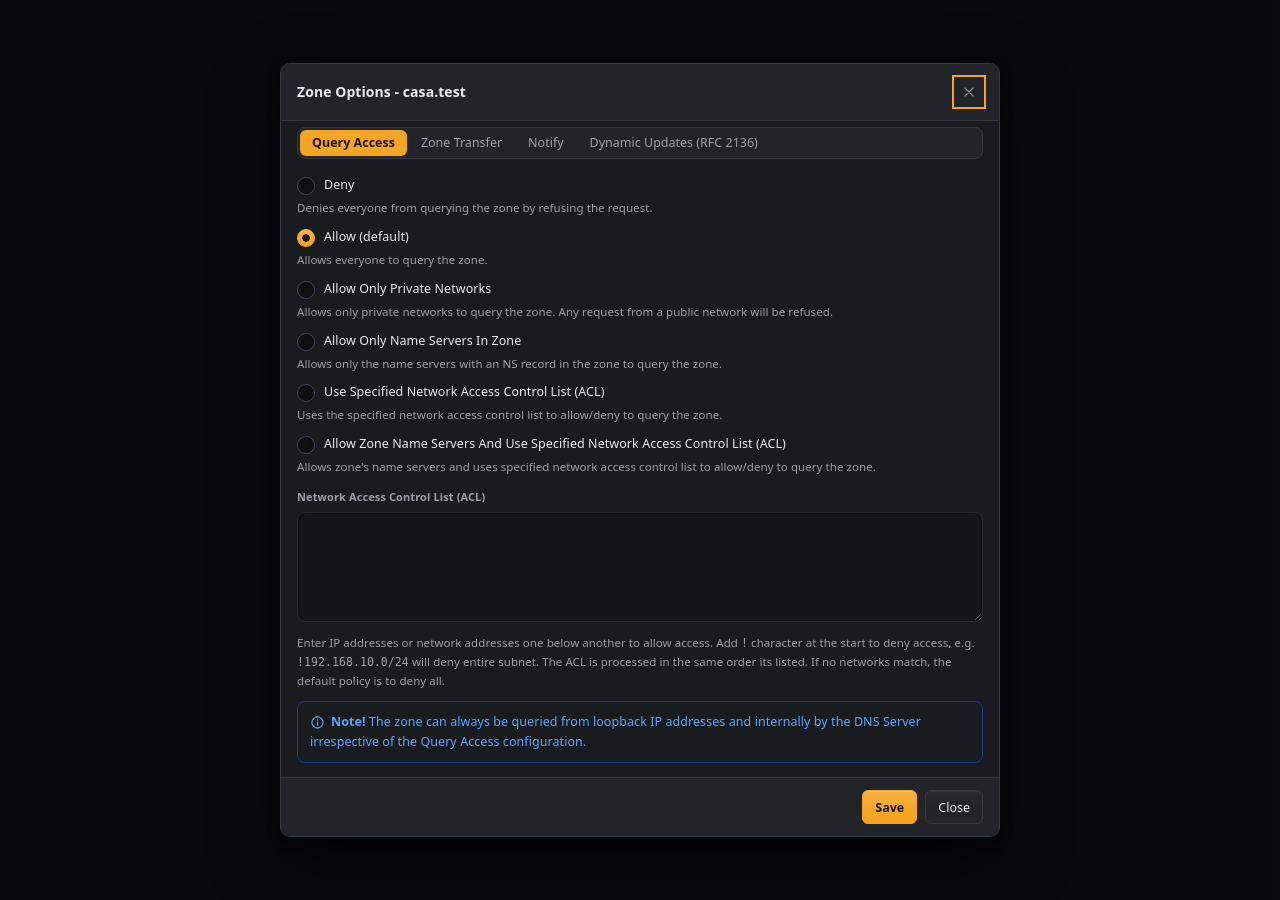
Scenario: Zone Options: the explanation under each radio › Dynamic Updates: five texts, the ACL help, Note, Warning and the security policy Note
Click the tab "Dynamic Updates (RFC 2136)": [674, 143] box [578,130,770,156]
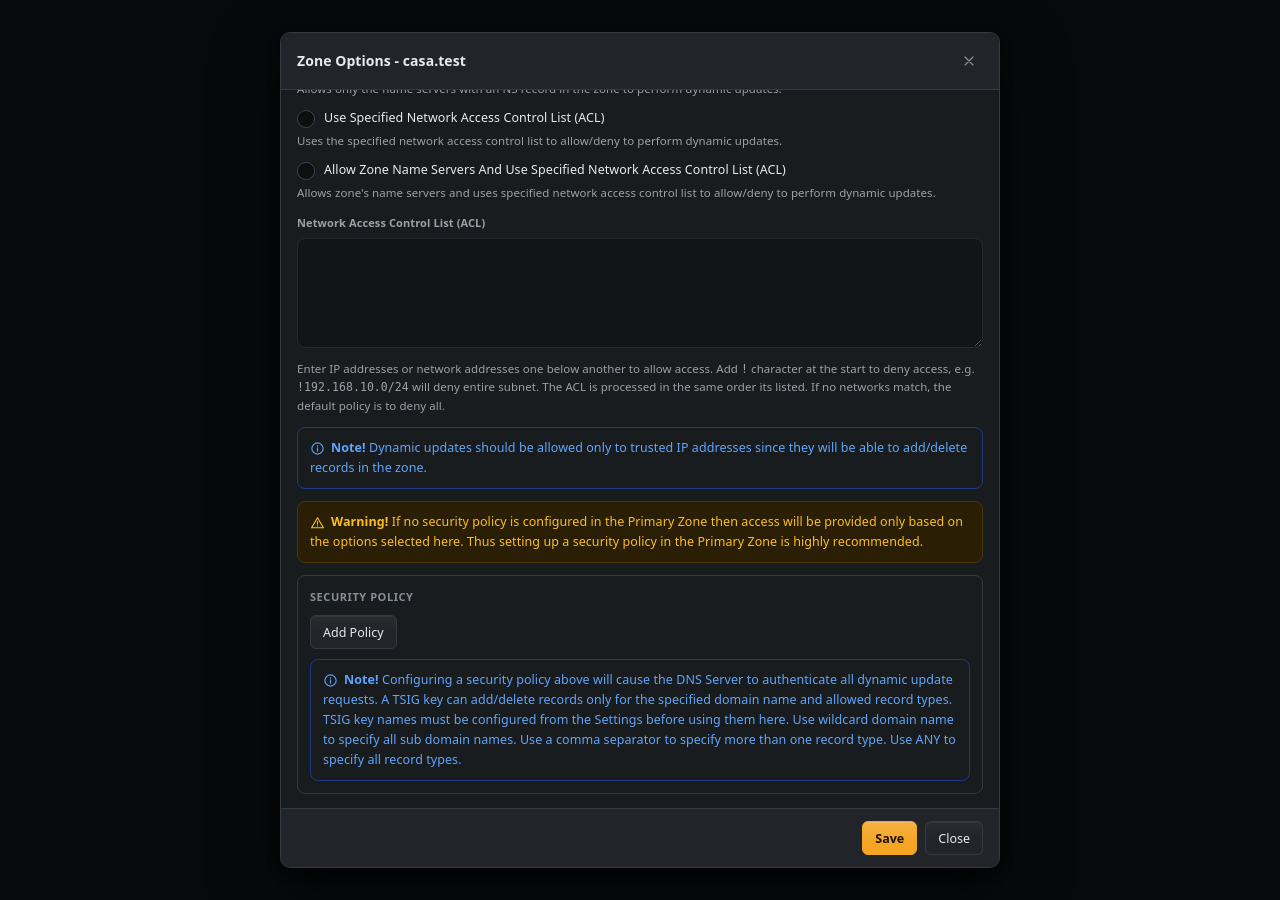
Now the text "Uses the specified network access control list to allow/deny to perform dynamic updates." is shown, box [297,133,782,148]
Now the text "Allows zone's name servers and uses specified network access control list to allow/deny to perform dynamic updates." is shown, box [297,185,936,200]
Now the text "Dynamic updates should be allowed only to trusted IP addresses since they will be able to add/delete records in the zone" is shown, box [310,439,967,476]
